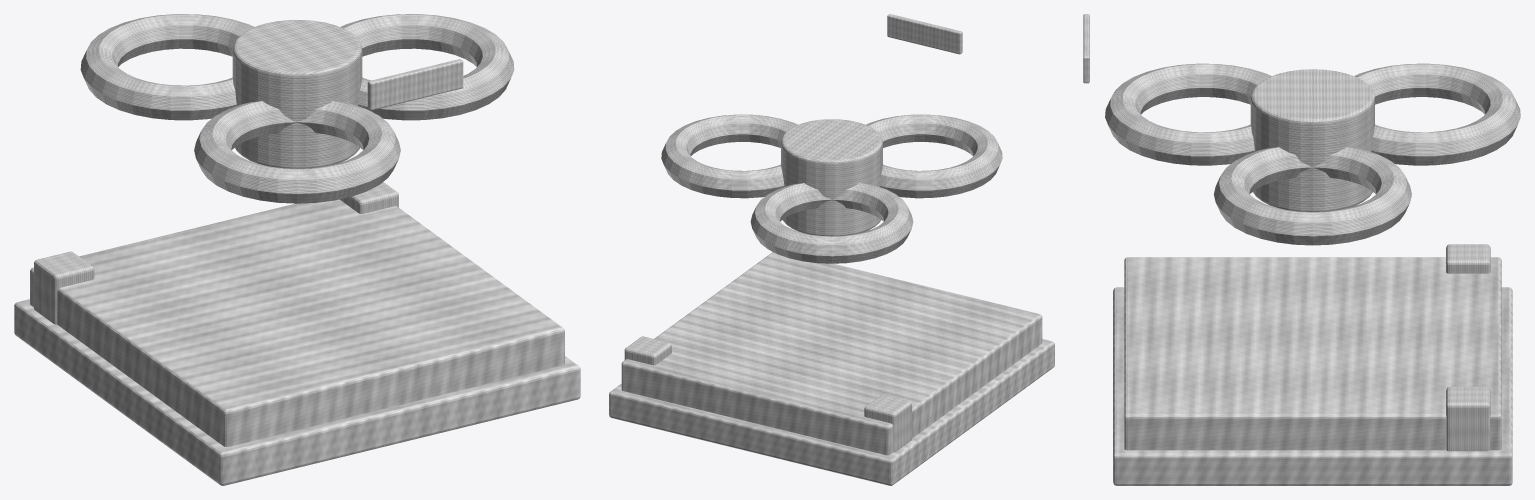
The model's file is hypertube_junction_variant_d.glb.
3 renders of one model, left to right at view 1: azimuth 30°, elevation 25°; view 2: azimuth 150°, elevation 25°; view 3: azimuth 270°, elevation 25°, orthographic. The views are drawn at different scales.
Visible parts, largest first — view 1: Tube support base.003, Foundation.003, Junction core.003, Junction tube socket, Junction tube socket.011, Junction tube socket.010, Asset ID plate, Service foot.006, Service foot.007; view 2: Tube support base.003, Foundation.003, Junction core.003, Junction tube socket.011, Junction tube socket.010, Junction tube socket, Asset ID plate, Service foot.006, Service foot.007; view 3: Tube support base.003, Foundation.003, Junction core.003, Junction tube socket.010, Junction tube socket.011, Junction tube socket, Service foot.007, Service foot.006, Asset ID plate.
Part boxes in pixels (left/top/right/bottom): Tube support base.003: left=30, top=199, right=564, bottom=446; Foundation.003: left=14, top=299, right=580, bottom=485; Junction core.003: left=232, top=20, right=362, bottom=168; Junction tube socket: left=194, top=101, right=400, bottom=203; Junction tube socket.011: left=80, top=14, right=253, bottom=120; Junction tube socket.010: left=340, top=14, right=514, bottom=120; Asset ID plate: left=367, top=59, right=463, bottom=110; Service foot.006: left=34, top=251, right=94, bottom=324; Service foot.007: left=340, top=182, right=398, bottom=213; Tube support base.003: left=621, top=252, right=1042, bottom=455; Foundation.003: left=609, top=339, right=1054, bottom=485; Junction core.003: left=781, top=119, right=882, bottom=236; Junction tube socket.011: left=750, top=183, right=913, bottom=263; Junction tube socket.010: left=661, top=114, right=797, bottom=198; Junction tube socket: left=866, top=114, right=1002, bottom=198; Asset ID plate: left=887, top=14, right=962, bottom=54; Service foot.006: left=864, top=395, right=911, bottom=452; Service foot.007: left=624, top=336, right=671, bottom=365; Tube support base.003: left=1124, top=257, right=1501, bottom=450; Foundation.003: left=1113, top=287, right=1512, bottom=485; Junction core.003: left=1250, top=69, right=1374, bottom=211; Junction tube socket.010: left=1214, top=147, right=1411, bottom=245; Junction tube socket.011: left=1354, top=63, right=1520, bottom=165; Junction tube socket: left=1105, top=63, right=1271, bottom=165; Service foot.007: left=1446, top=386, right=1490, bottom=451; Service foot.006: left=1446, top=244, right=1490, bottom=273; Asset ID plate: left=1083, top=14, right=1089, bottom=83.
Size of what is drawn, in the model's own units: 2.87 by 2.74 by 2.96.
Materials: 4 (4 with a texture image).
